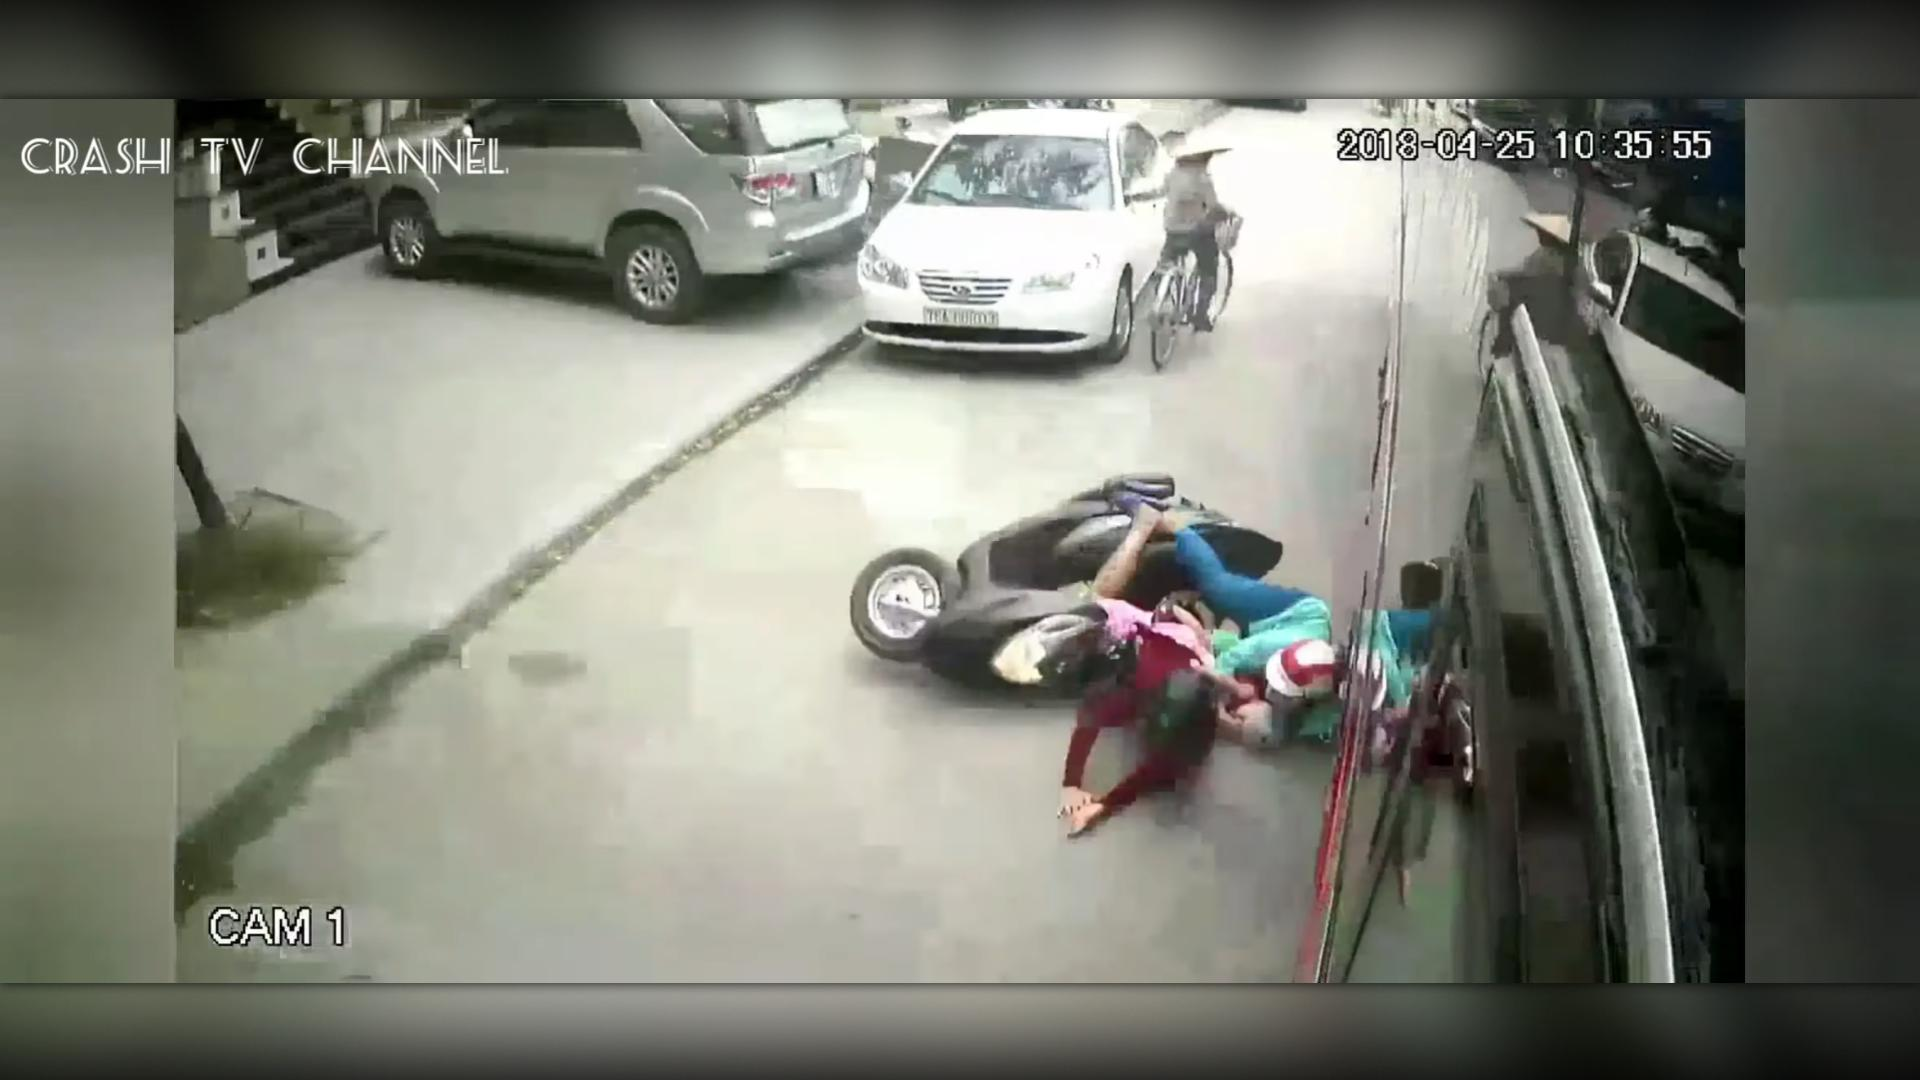accident: (818, 459, 1400, 833)
bicycle: (1153, 124, 1249, 367)
car: (353, 98, 882, 302), (847, 105, 1182, 369)
